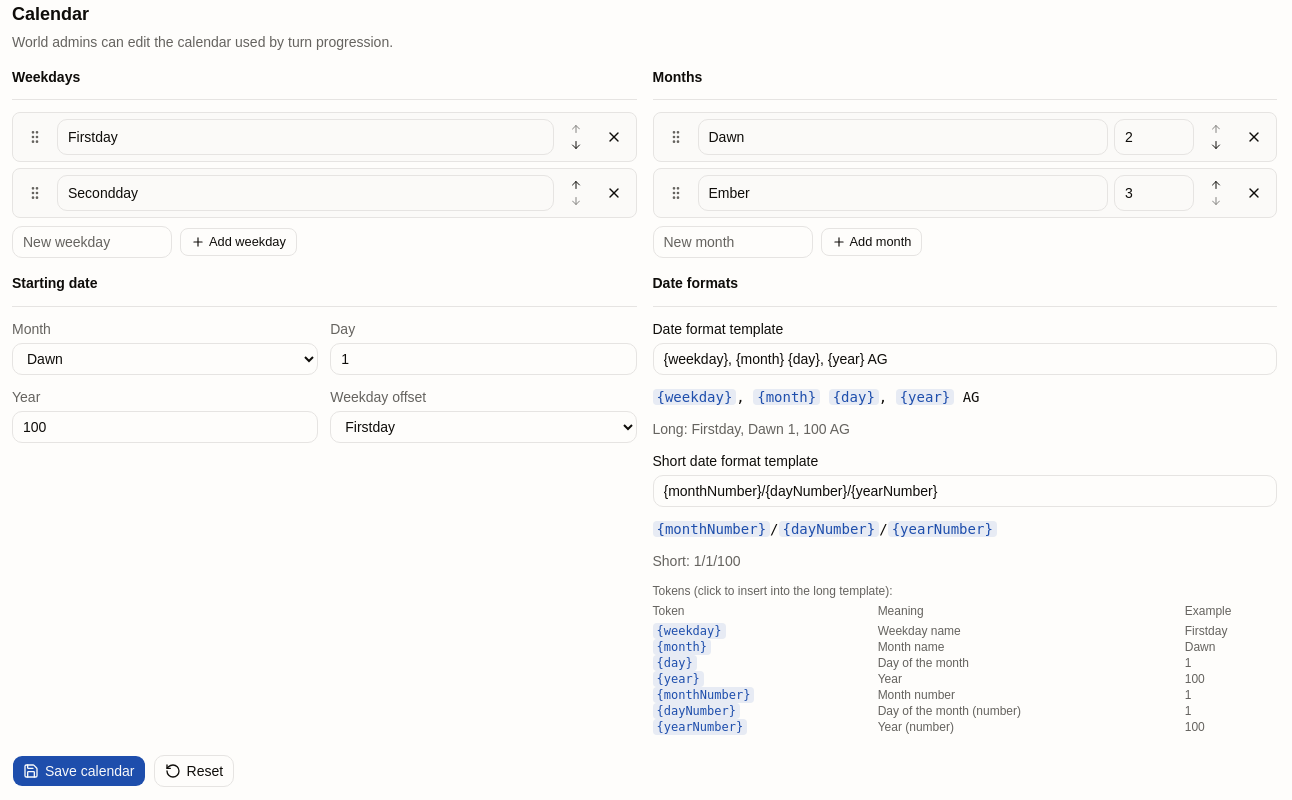
Test: WorldCalendarConfigPanel › appends a typed weekday chip and reorders it with the move buttons
The image size is (1292, 800).
Expected: the heading "Calendar" is shown, x1=12 y1=4 x2=89 y2=24
Type "Moonday" into the field labelled "New weekday" at (92, 242), box x1=12 y1=226 x2=172 y2=258
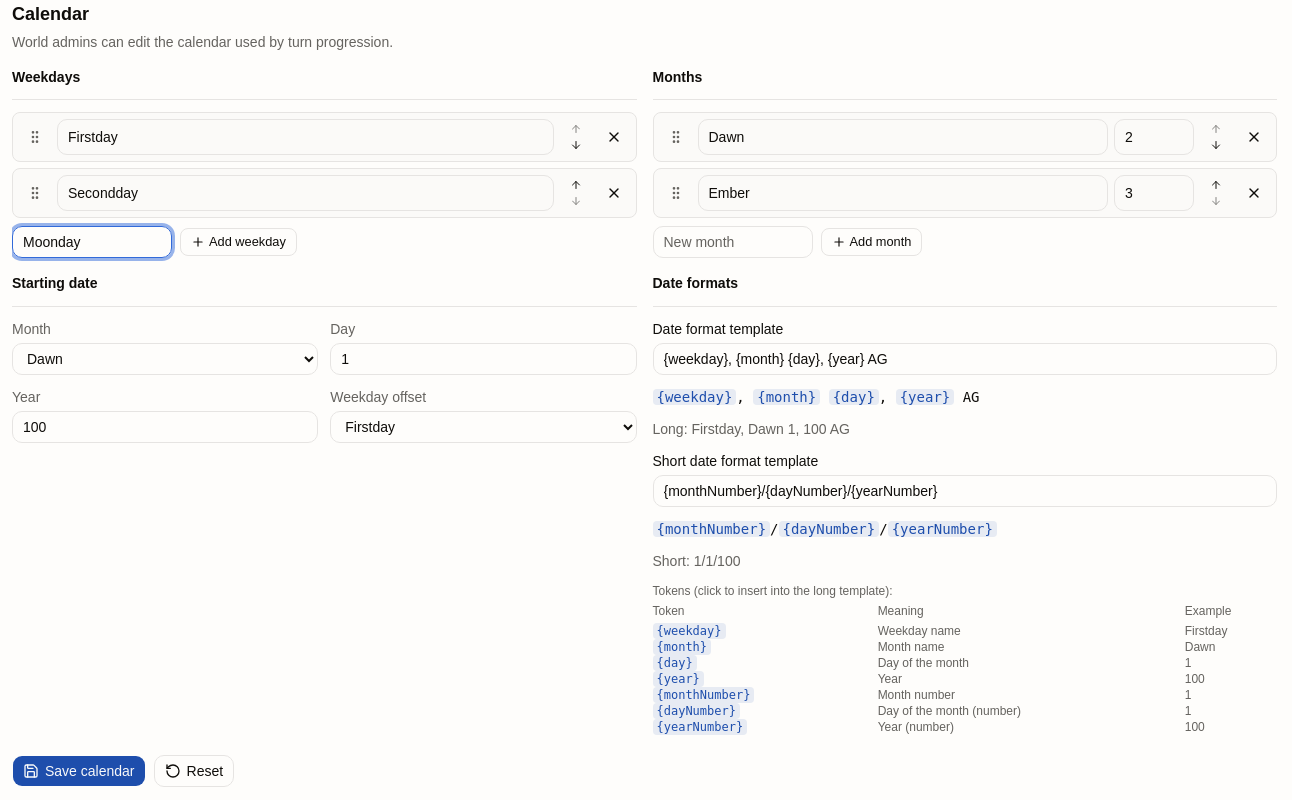
Click the button "Add weekday" at (238, 242), box x1=180 y1=228 x2=297 y2=256
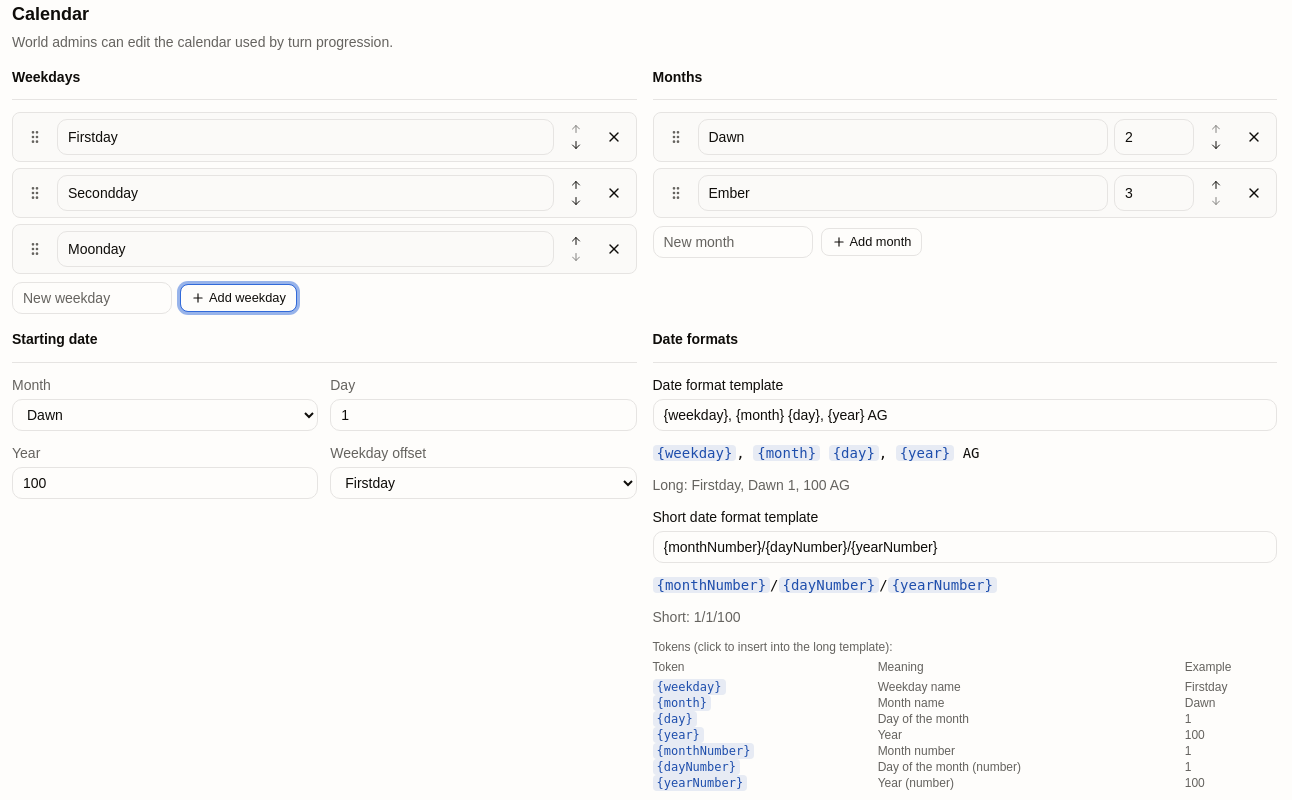
Expected: the button named "Move weekdays 1 up" is disabled, x1=560 y1=121 x2=592 y2=137
Expected: the field named "Day 3" holds "Moonday", x1=57 y1=231 x2=554 y2=267
Click the button named "Move weekdays 1 down" at (576, 145), box x1=560 y1=137 x2=592 y2=153
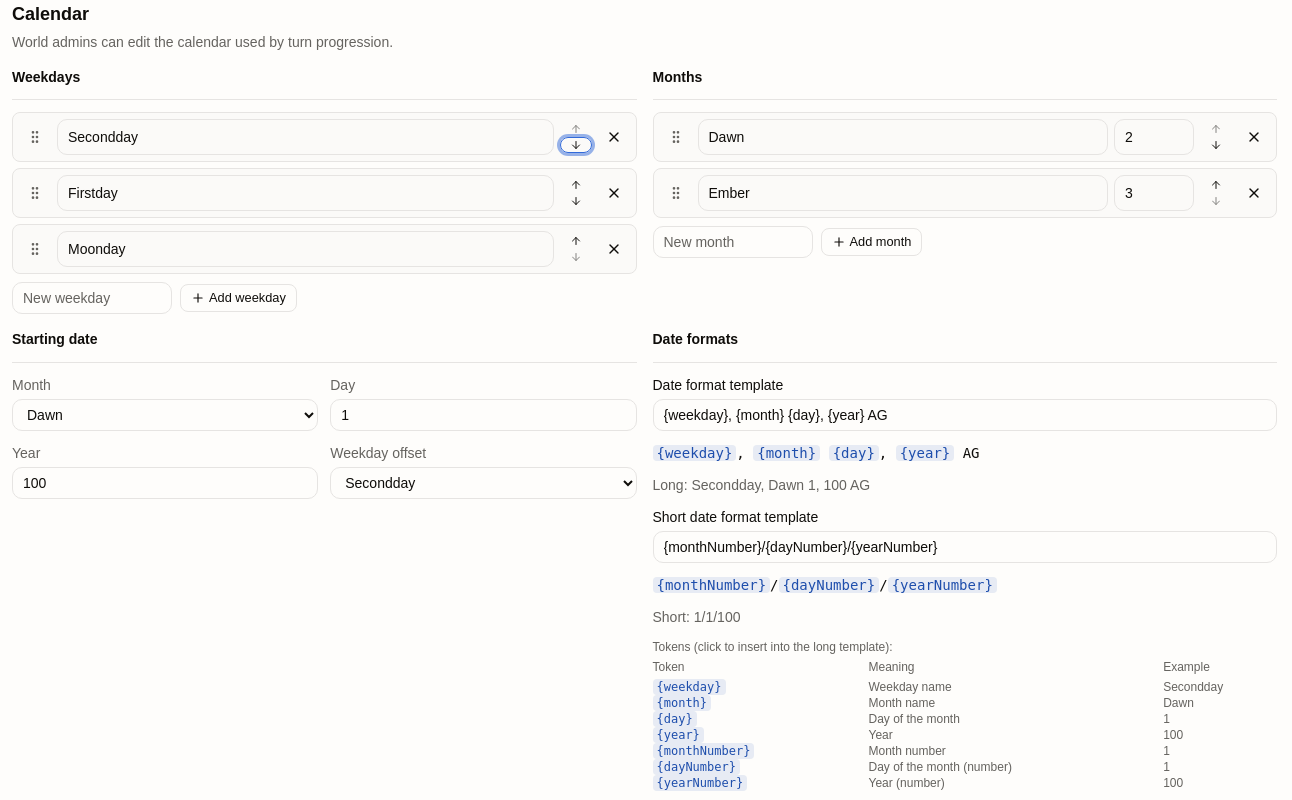
Expected: the field named "Day 1" holds "Secondday", x1=57 y1=119 x2=554 y2=155
Expected: the field named "Day 2" holds "Firstday", x1=57 y1=175 x2=554 y2=211
